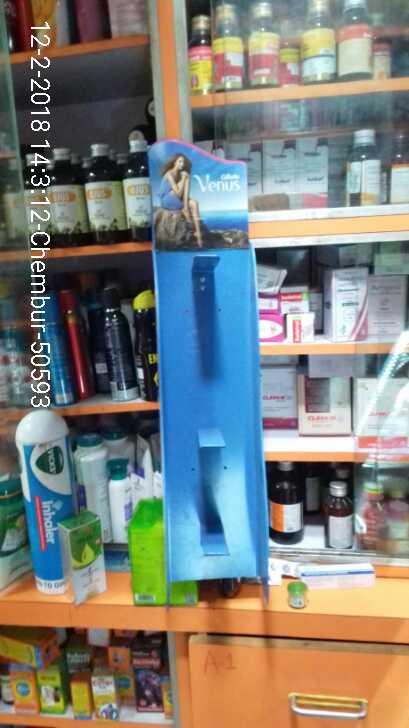reject: (179, 329, 283, 456)
